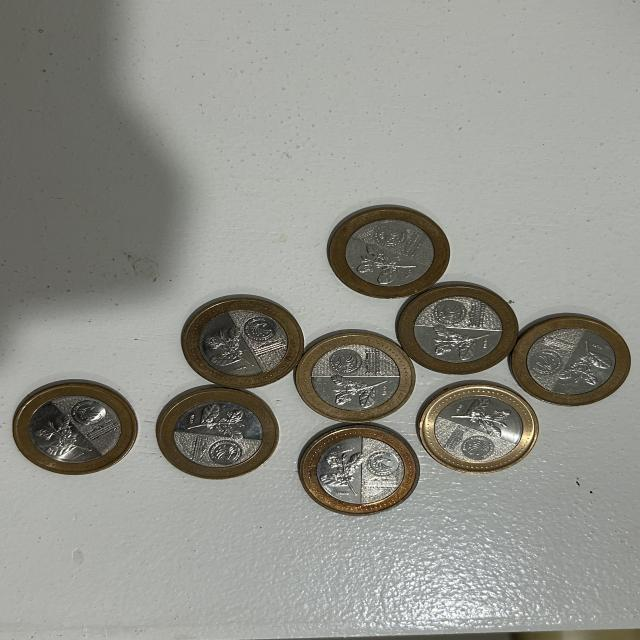20_New_Back: (426, 322, 492, 361), (358, 243, 418, 283), (33, 414, 88, 456), (328, 372, 392, 408), (201, 325, 252, 370), (559, 341, 609, 385), (456, 398, 516, 434), (187, 402, 247, 438), (321, 449, 365, 495)
